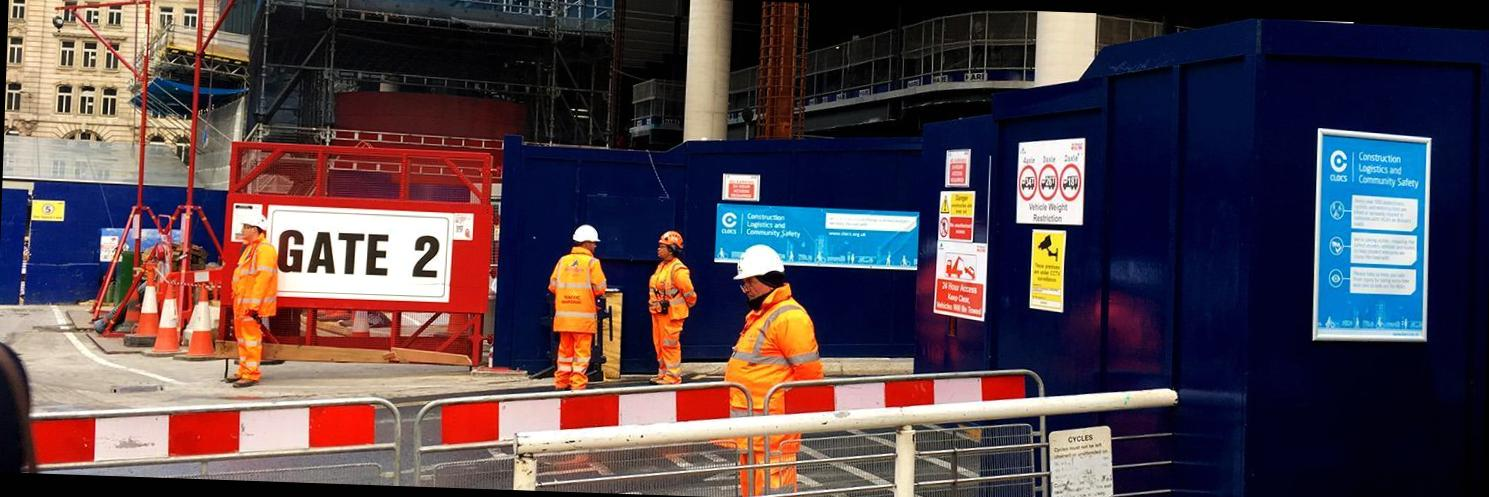helmet: (728, 238, 786, 298)
person: (220, 213, 284, 399), (540, 224, 607, 392)
